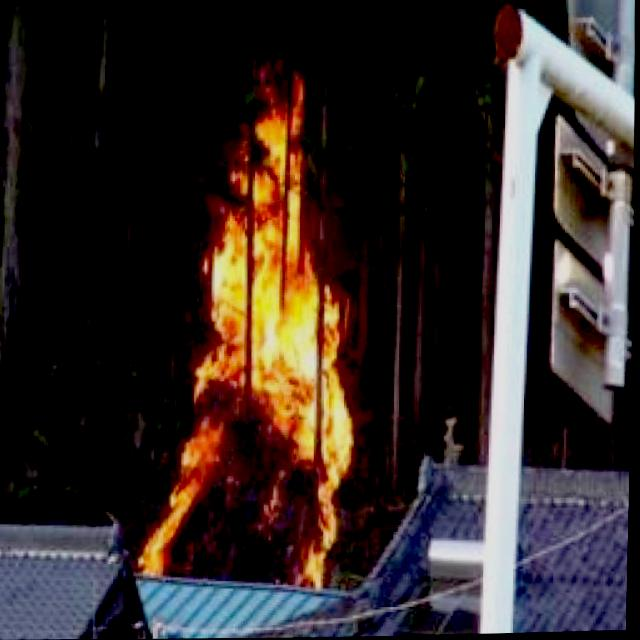Fire: (142, 56, 356, 585)
